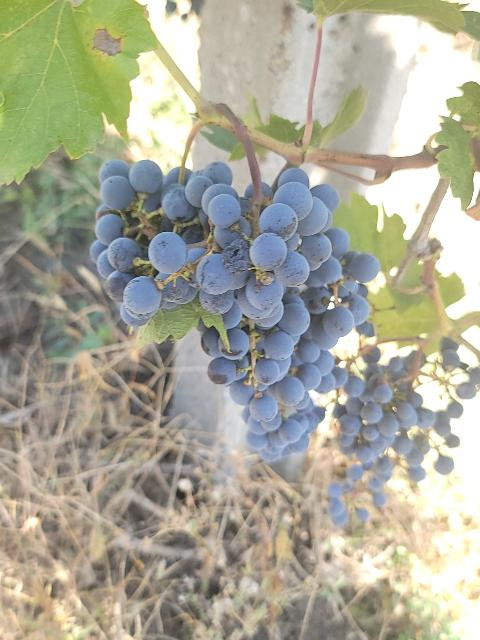grapes: (195, 169, 380, 460), (326, 346, 461, 526), (90, 160, 231, 328)
